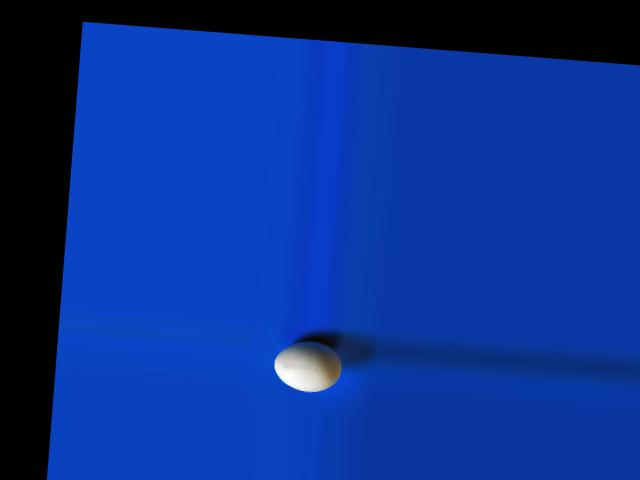egg: (272, 337, 344, 394)
